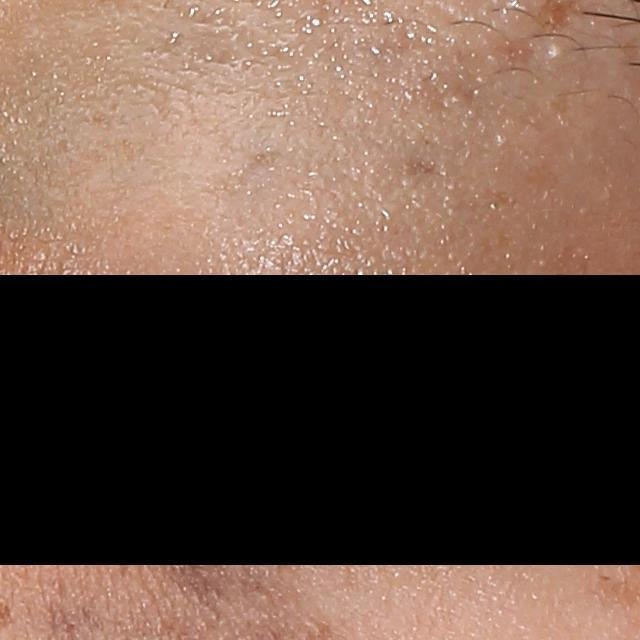melasma: (416, 14, 538, 142), (398, 150, 460, 192)
